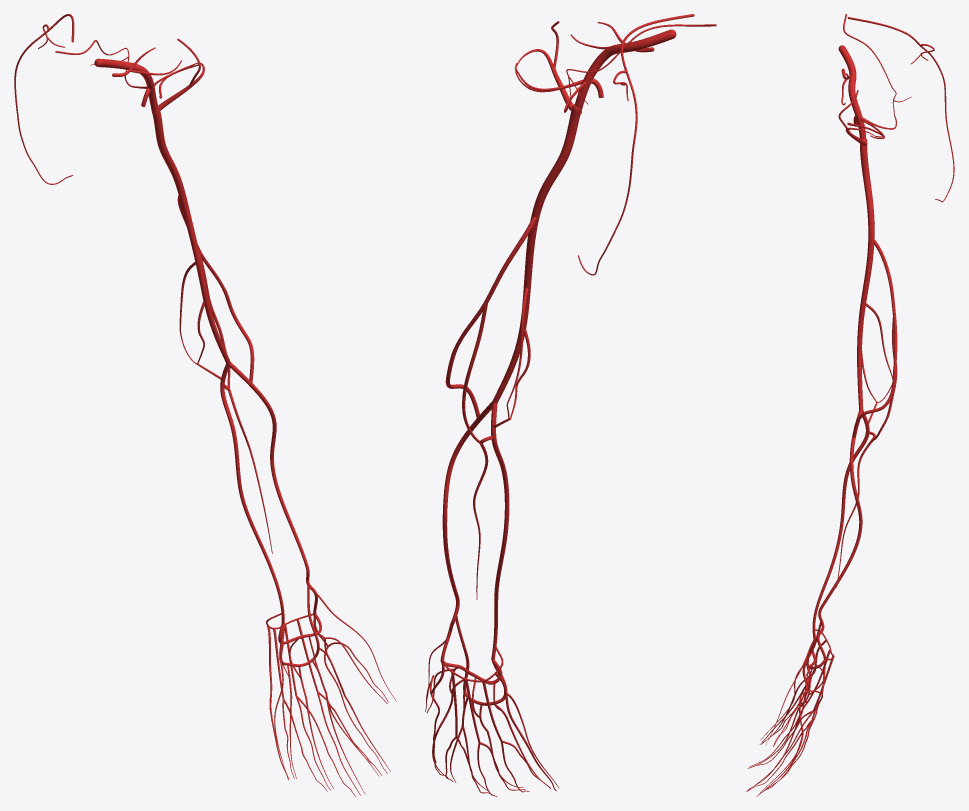
File: arteries.upper_limb_left.glb
3 renders of one model, left to right at view 1: azimuth 30°, elevation 25°; view 2: azimuth 150°, elevation 25°; view 3: azimuth 270°, elevation 25°, orthographic. The views are drawn at different scales.
Parts seen in each view (by area): view 1: left_brachial_artery, dorsal_digital_arteries_in_hand_fj2318, left_ulnar_artery, left_radial_artery, left_set_of_dorsal_metacarpal_arteries, left_axillary_artery, left_dorsal_scapular_artery; view 2: left_brachial_artery, left_radial_artery, left_ulnar_artery, left_axillary_artery, dorsal_digital_arteries_in_hand_fj2318, left_dorsal_scapular_artery, left_set_of_dorsal_metacarpal_arteries, left_anterior_circumflex_humeral_artery; view 3: left_brachial_artery, dorsal_digital_arteries_in_hand_fj2318, left_radial_artery, left_ulnar_artery, left_axillary_artery, left_dorsal_scapular_artery, left_set_of_dorsal_metacarpal_arteries.
Part boxes in pixels (x1=…): left_brachial_artery: x1=151, y1=106, x2=230, y2=364; dorsal_digital_arteries_in_hand_fj2318: x1=269, y1=642, x2=388, y2=796; left_ulnar_artery: x1=220, y1=363, x2=284, y2=623; left_radial_artery: x1=228, y1=362, x2=317, y2=614; left_set_of_dorsal_metacarpal_arteries: x1=267, y1=615, x2=328, y2=698; left_axillary_artery: x1=94, y1=58, x2=160, y2=120; left_dorsal_scapular_artery: x1=14, y1=14, x2=74, y2=184; left_brachial_artery: x1=492, y1=104, x2=580, y2=403; left_radial_artery: x1=441, y1=401, x2=492, y2=658; left_ulnar_artery: x1=491, y1=403, x2=509, y2=659; left_axillary_artery: x1=575, y1=29, x2=676, y2=111; dorsal_digital_arteries_in_hand_fj2318: x1=425, y1=675, x2=556, y2=796; left_dorsal_scapular_artery: x1=578, y1=14, x2=694, y2=275; left_set_of_dorsal_metacarpal_arteries: x1=430, y1=660, x2=521, y2=743; left_anterior_circumflex_humeral_artery: x1=515, y1=21, x2=581, y2=114; left_brachial_artery: x1=857, y1=138, x2=874, y2=410; dorsal_digital_arteries_in_hand_fj2318: x1=747, y1=688, x2=822, y2=793; left_radial_artery: x1=816, y1=410, x2=862, y2=659; left_ulnar_artery: x1=812, y1=410, x2=869, y2=639; left_axillary_artery: x1=838, y1=45, x2=866, y2=151; left_dorsal_scapular_artery: x1=847, y1=17, x2=954, y2=202; left_set_of_dorsal_metacarpal_arteries: x1=804, y1=639, x2=833, y2=720.
Size of the model in its own units: 0.2834 by 0.7069 by 0.1977.
